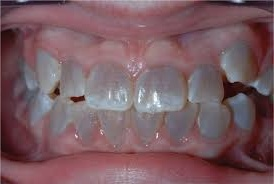Tooth Discoloration: (44, 39, 259, 116), (36, 94, 244, 150)
